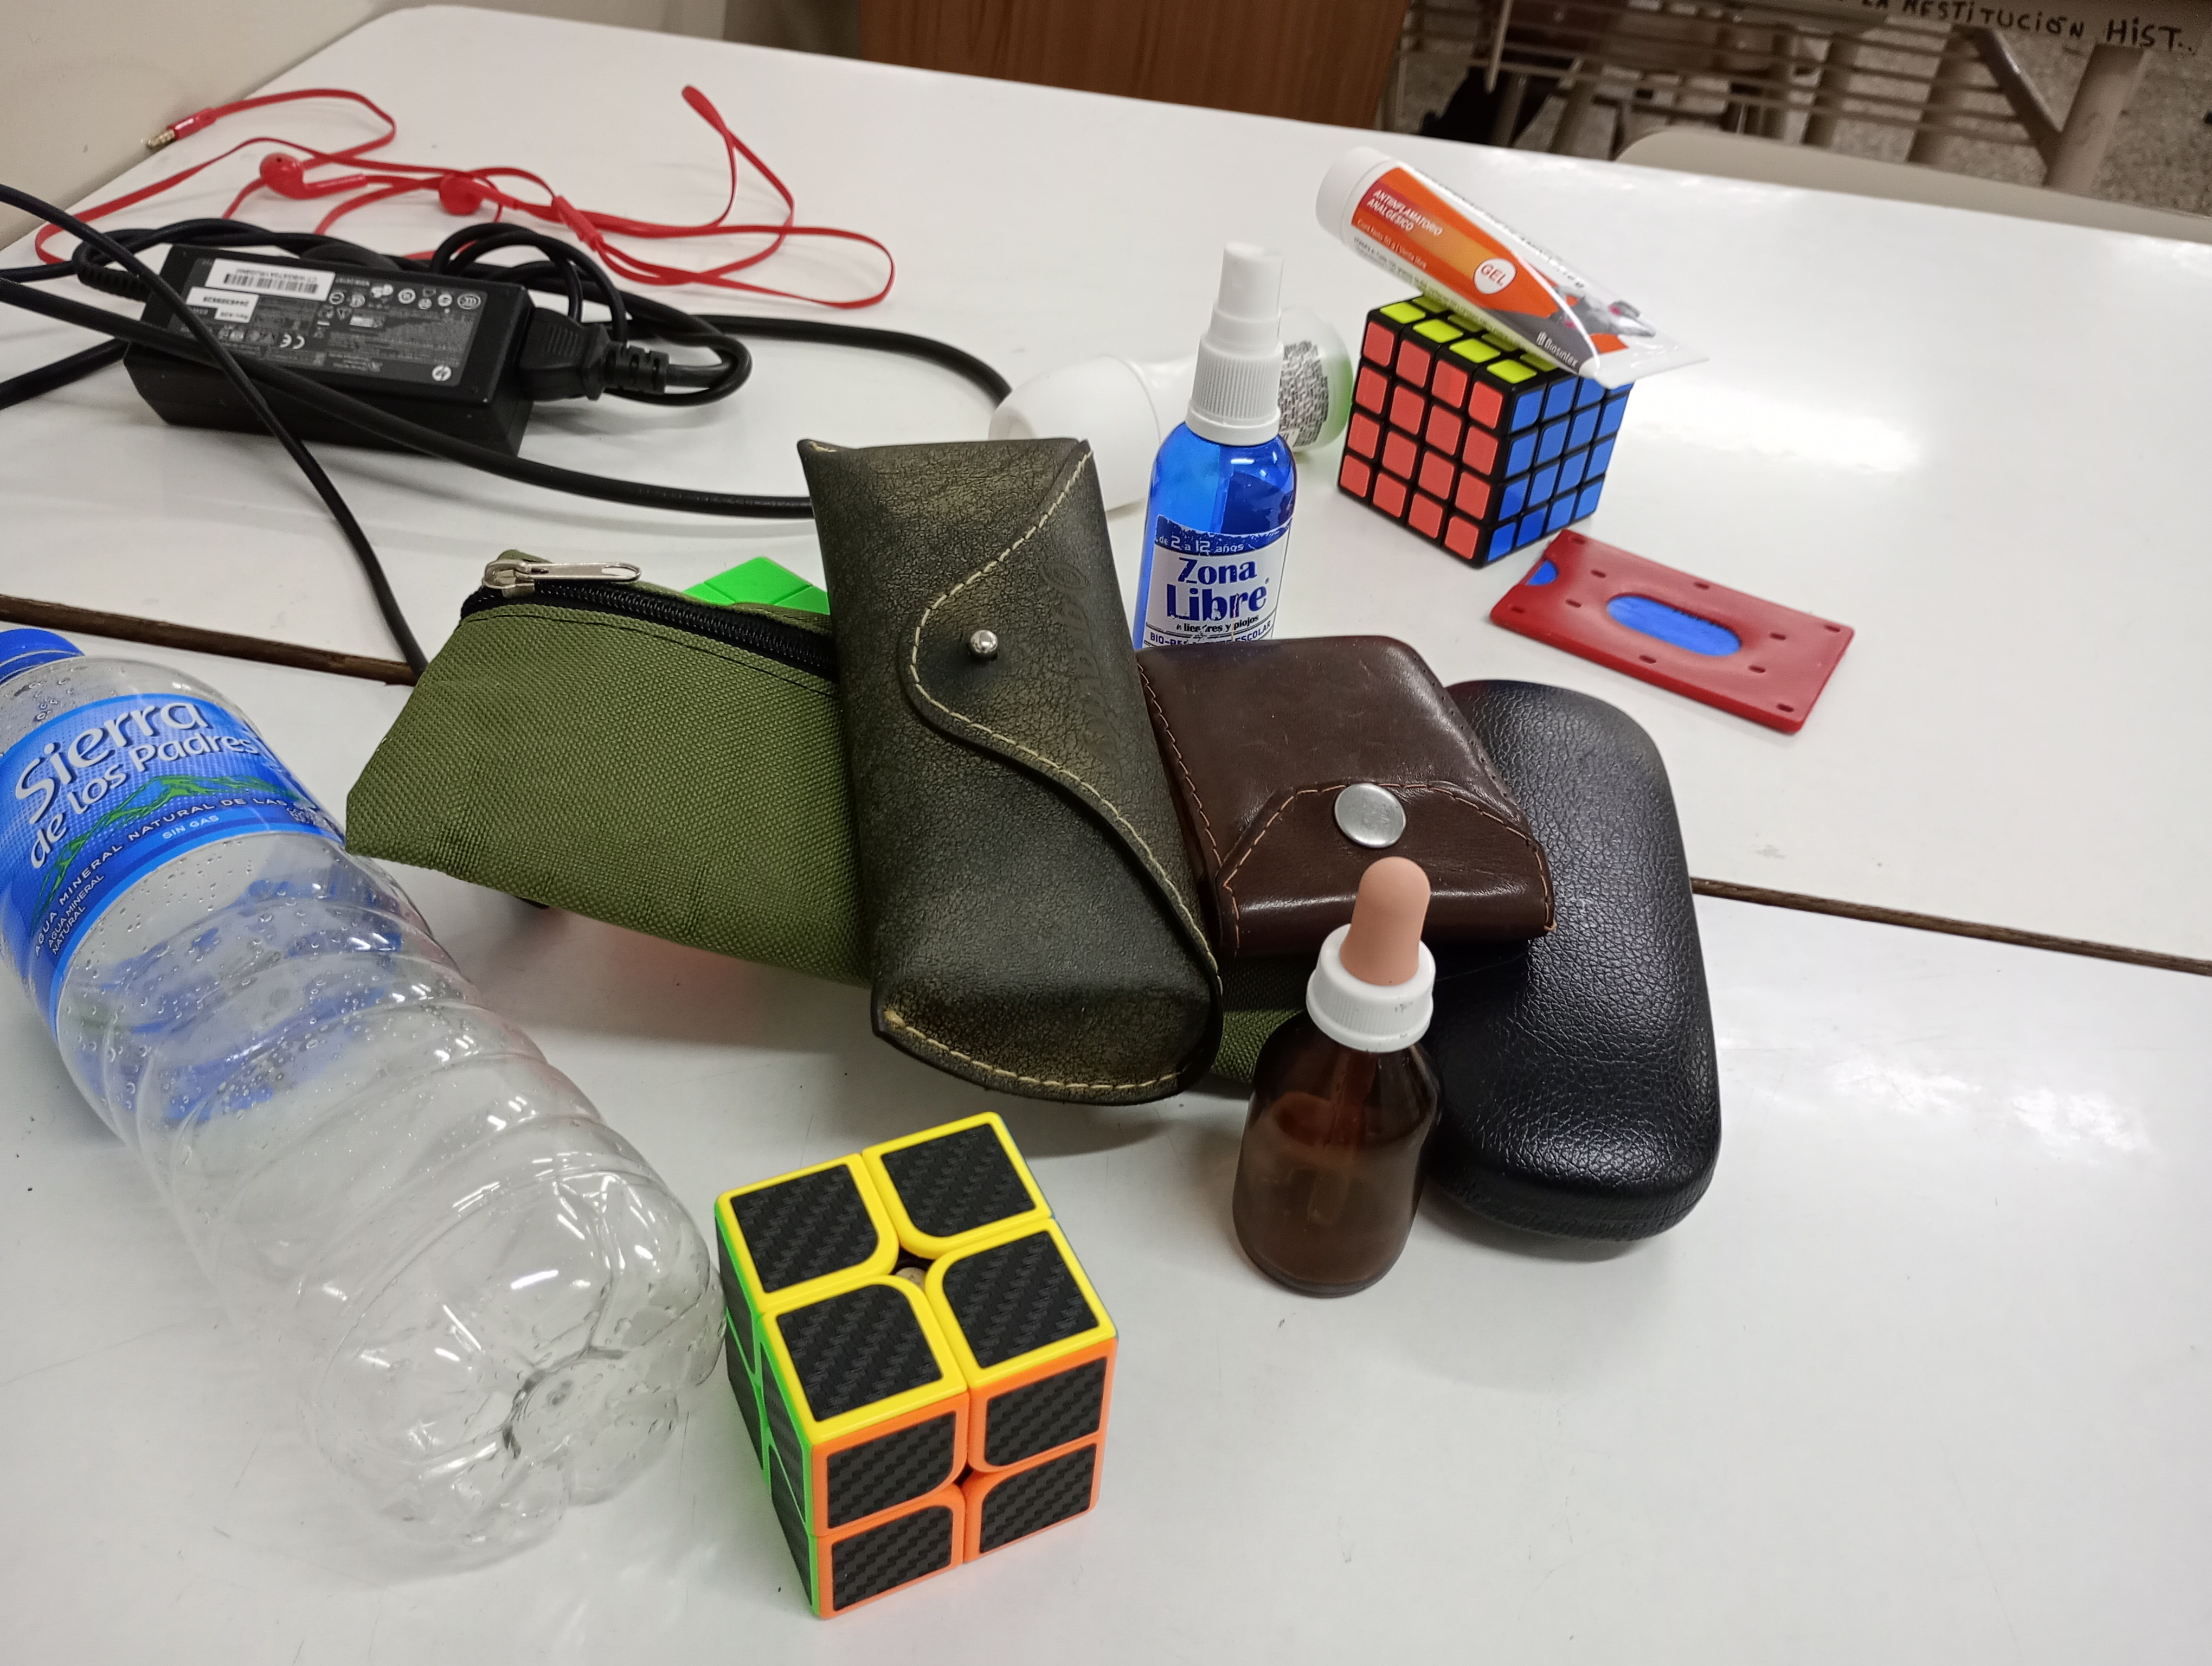remedio: (1278, 866, 1430, 1306)
